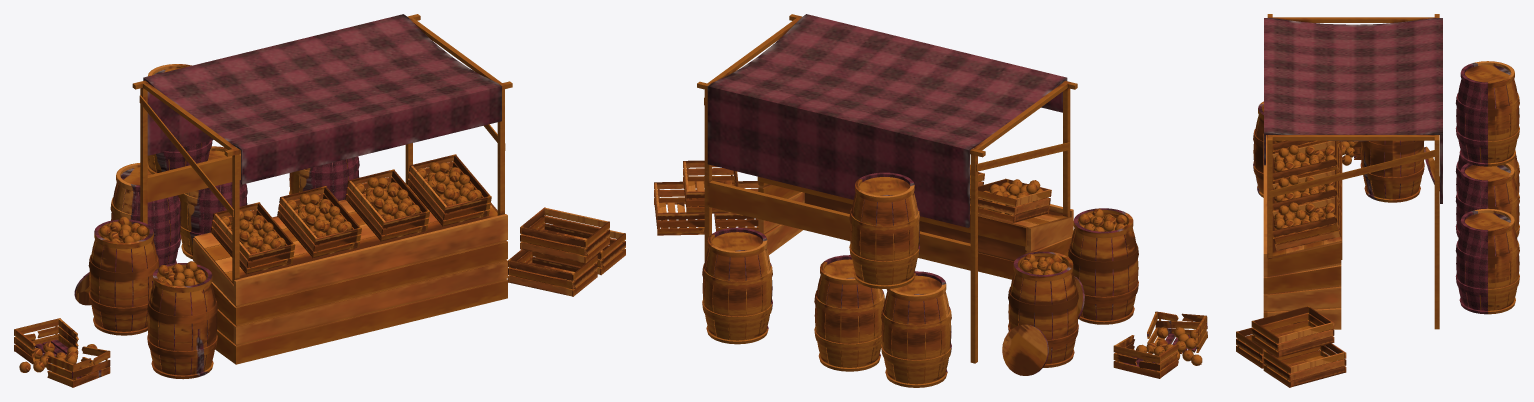
The model's file is Concept_8.fbx.
The picture shows the model from 3 angles, left to right: view 1: azimuth 30°, elevation 25°; view 2: azimuth 150°, elevation 25°; view 3: azimuth 270°, elevation 25°; orthographic projection. The views are drawn at different scales.
Parts seen in each view (by area): view 1: Cube.152, Cube.153, Circle.097, Circle.095, Cube.156, Circle.091, Cube.154, Cube.160, Cube.158, Cube.159, Circle.092, Cube.157 (+5 smaller); view 2: Cube.152, Cube.153, Circle.094, Circle.093, Circle.091, Circle.092, Circle.097, Circle.095, Cube.155, Cube.157, Circle.096, Cube.162 (+3 smaller); view 3: Cube.152, Cube.153, Circle.093, Circle.094, Circle.095, Cube.156, Circle.092, Cube.155, Cube.160, Cube.158, Cube.159, Circle.097 (+3 smaller).
Boxes of the visible parts, <box> form: Cube.152: <box>132,14,512,284</box>; Cube.153: <box>193,185,507,364</box>; Circle.097: <box>147,263,217,379</box>; Circle.095: <box>88,219,159,335</box>; Cube.156: <box>520,207,609,263</box>; Circle.091: <box>110,163,181,267</box>; Cube.154: <box>507,249,597,296</box>; Cube.160: <box>407,154,491,226</box>; Cube.158: <box>277,186,361,258</box>; Cube.159: <box>345,169,429,241</box>; Circle.092: <box>178,146,247,259</box>; Cube.157: <box>210,202,295,274</box>; Cube.152: <box>697,14,1077,363</box>; Cube.153: <box>757,176,1073,279</box>; Circle.094: <box>702,227,772,344</box>; Circle.093: <box>849,172,920,288</box>; Circle.091: <box>881,271,951,387</box>; Circle.092: <box>814,255,884,371</box>; Circle.097: <box>1068,208,1138,324</box>; Circle.095: <box>1008,251,1078,367</box>; Cube.155: <box>654,181,704,235</box>; Cube.157: <box>970,178,1051,223</box>; Circle.096: <box>1002,324,1048,375</box>; Cube.162: <box>1113,335,1178,378</box>; Cube.152: <box>1264,14,1442,329</box>; Cube.153: <box>1263,134,1342,329</box>; Circle.093: <box>1455,61,1519,166</box>; Circle.094: <box>1455,208,1519,314</box>; Circle.095: <box>1360,140,1424,202</box>; Cube.156: <box>1251,306,1334,357</box>; Circle.092: <box>1455,163,1519,238</box>; Cube.155: <box>1263,343,1346,387</box>; Cube.160: <box>1272,197,1341,251</box>; Cube.158: <box>1272,141,1341,183</box>; Cube.159: <box>1272,169,1341,213</box>; Circle.097: <box>1253,101,1267,197</box>.
Size of the model in its own units: 335 by 119 by 158.
